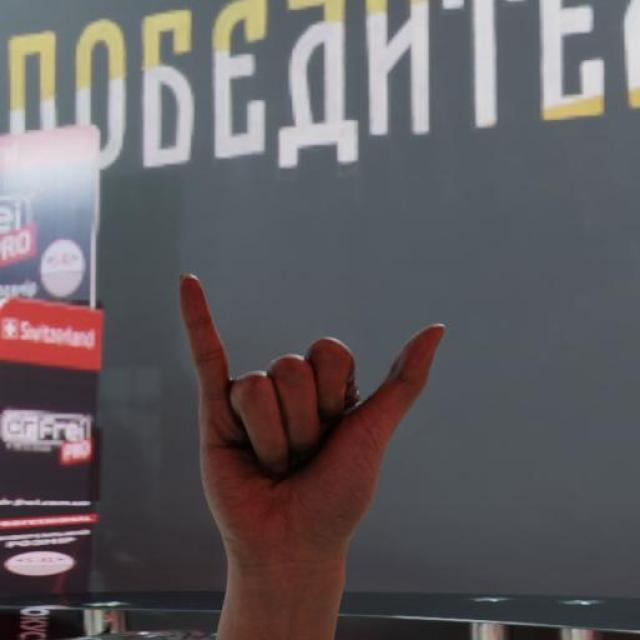Y: (170, 257, 445, 571)
